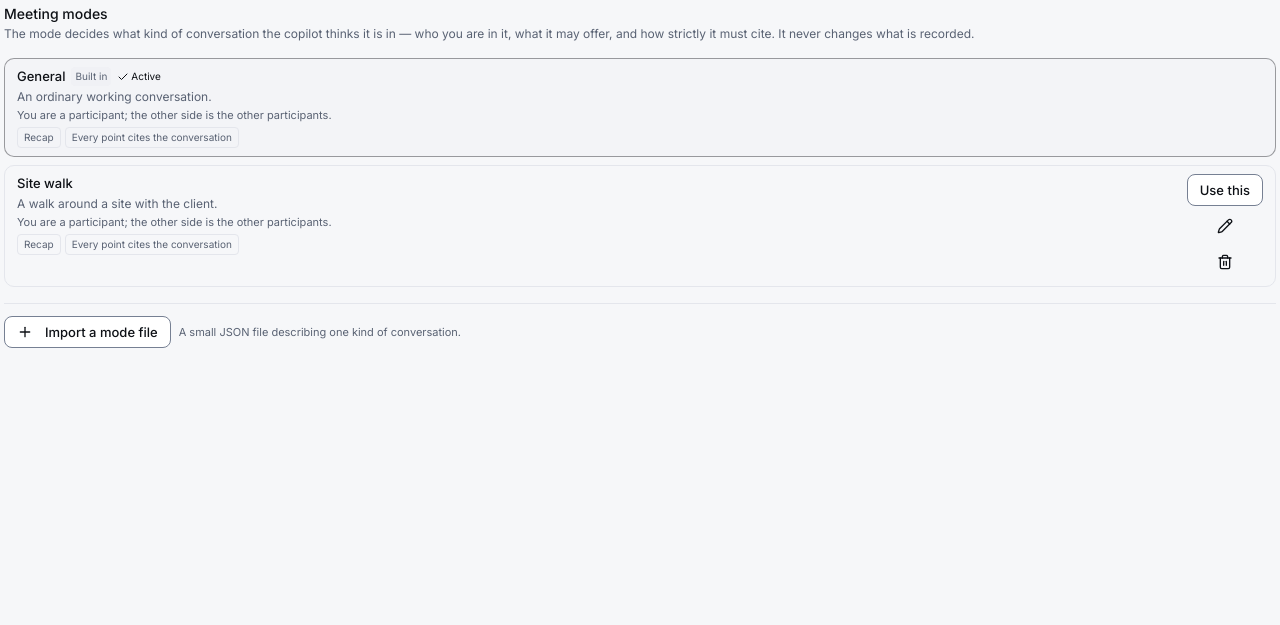
Test: the save button is actually wired to the guard › is disabled until something changes, and enabled after
Expected: the text "Site walk" is shown, [17,174,73,194]
Click the button named "edit site walk" at (1225, 226), box [1187,210,1263,242]
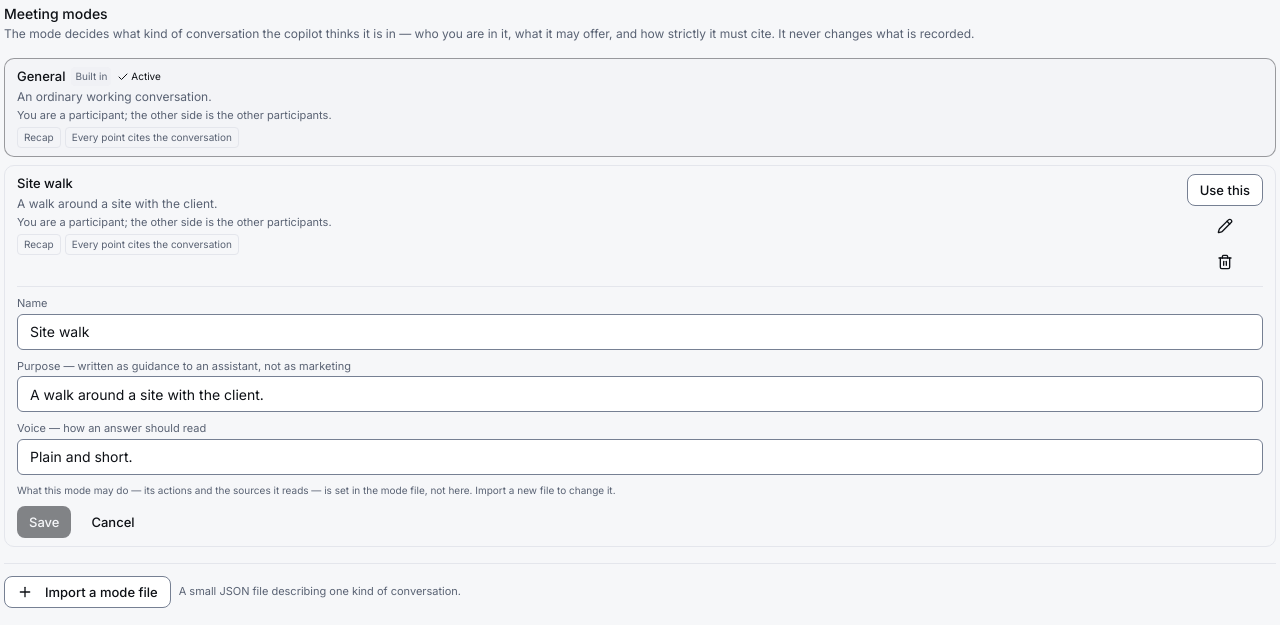
Expected: the button "Save" is disabled, [17,506,72,538]
Replace the text in the field labelled "Name" with "Site visit" at (640, 332), box [17,314,1263,350]
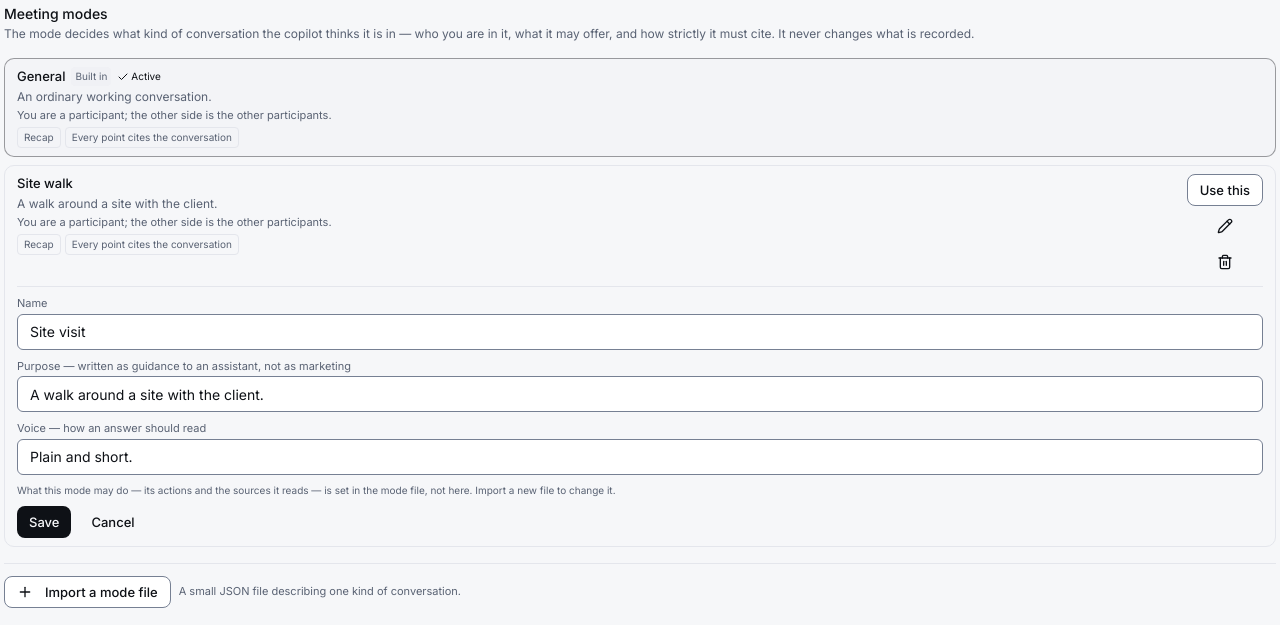
Expected: the button "Save" is enabled, [17,506,72,538]
